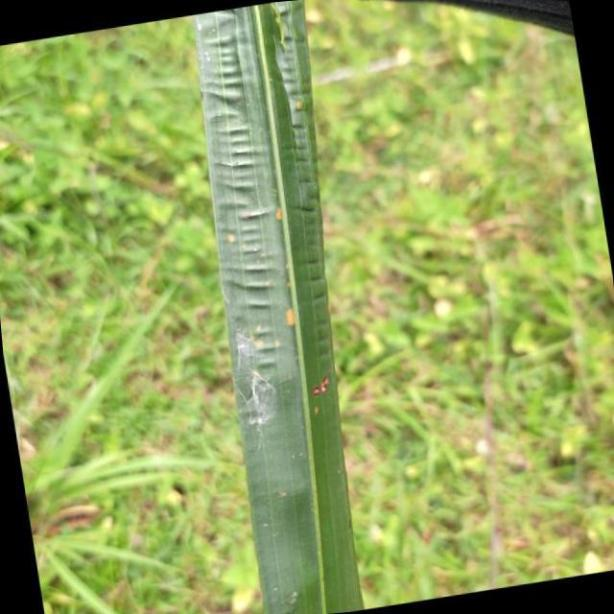Boron: (194, 1, 361, 614)
